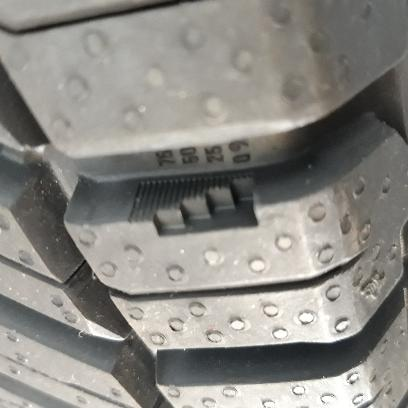temoin:100: (126, 166, 264, 242)
